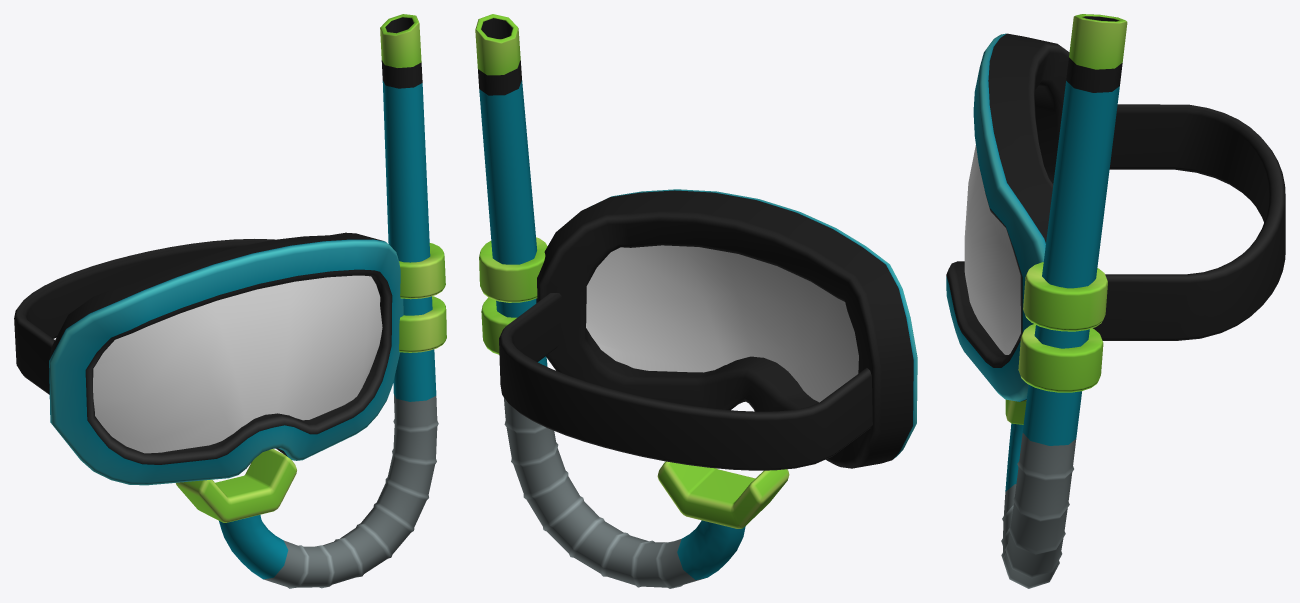
File: snorkel.fbx
The picture shows the model from 3 angles, left to right: view 1: azimuth 30°, elevation 25°; view 2: azimuth 150°, elevation 25°; view 3: azimuth 270°, elevation 25°; orthographic projection. The views are drawn at different scales.
Visible parts, largest first — view 1: snorkel, snorkel_glass; view 2: snorkel, snorkel_glass; view 3: snorkel, snorkel_glass.
Part boxes in pixels (x1,y1,x2,y2): snorkel: (14,14,446,588); snorkel_glass: (93,275,382,453); snorkel: (475,14,917,588); snorkel_glass: (586,245,858,402); snorkel: (946,14,1285,588); snorkel_glass: (964,145,1020,354).
Size of the model in its own units: 1.67 by 2.09 by 1.04.
